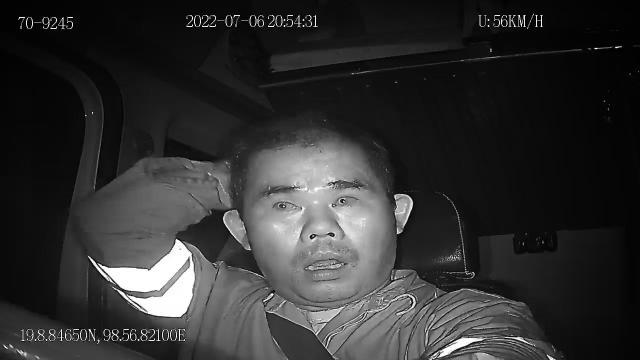SafeDriving: (324, 184, 368, 214), (264, 190, 309, 218)
Seatbelt: (263, 308, 337, 360)
